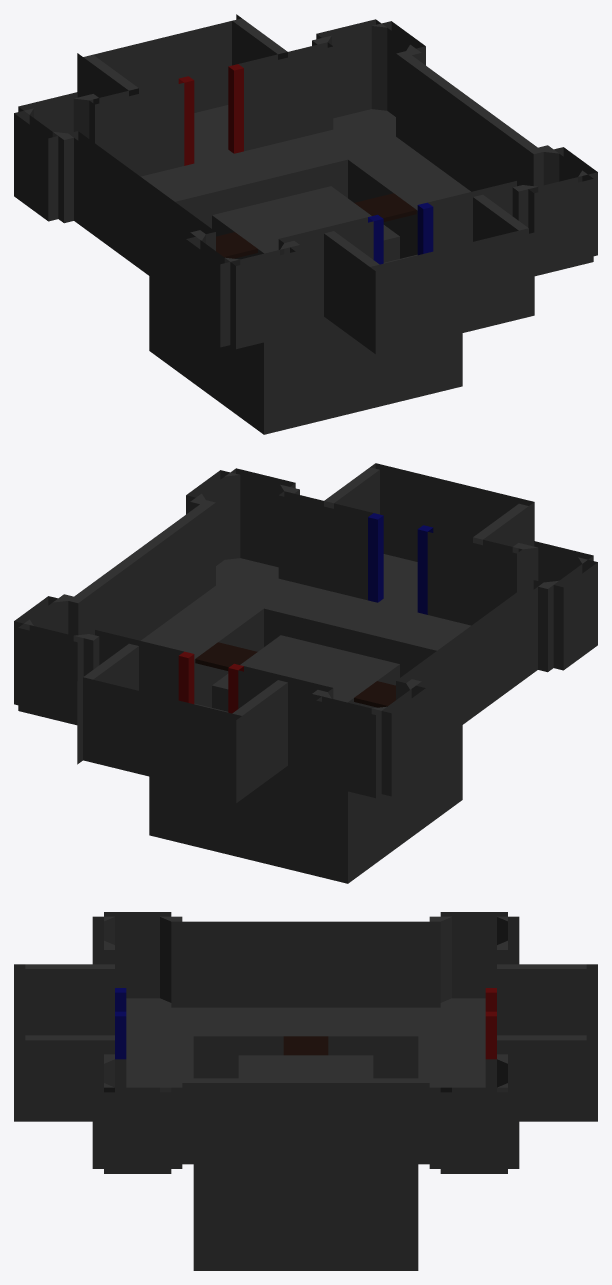
Rendered from map1.obj.
3 renders of one model, top to bottom at view 1: azimuth 30°, elevation 25°; view 2: azimuth 150°, elevation 25°; view 3: azimuth 270°, elevation 25°, orthographic. The views are drawn at different scales.
Visible parts, largest first — view 1: walls_Plane.001, floor_Plane.005, redgate_Plane.002, bridges_Plane.003, bluegate_Plane.000; view 2: walls_Plane.001, floor_Plane.005, bluegate_Plane.000, bridges_Plane.003, redgate_Plane.002; view 3: walls_Plane.001, floor_Plane.005, bridges_Plane.003, redgate_Plane.002, bluegate_Plane.000.
Boxes of the visible parts, x1,y1,x2,y2 form: walls_Plane.001: [14, 14, 597, 434]; floor_Plane.005: [141, 105, 470, 263]; redgate_Plane.002: [178, 64, 243, 165]; bridges_Plane.003: [216, 193, 416, 258]; bluegate_Plane.000: [368, 202, 433, 264]; walls_Plane.001: [14, 463, 597, 883]; floor_Plane.005: [141, 554, 470, 712]; bluegate_Plane.000: [368, 513, 433, 614]; bridges_Plane.003: [195, 642, 395, 707]; redgate_Plane.002: [178, 651, 243, 713]; walls_Plane.001: [14, 912, 597, 1270]; floor_Plane.005: [126, 998, 485, 1087]; bridges_Plane.003: [283, 1036, 328, 1055]; redgate_Plane.002: [485, 988, 496, 1059]; bluegate_Plane.000: [115, 988, 126, 1059].
Bounding box in the file's own units: 42.75 × 24.45 × 58.5.
